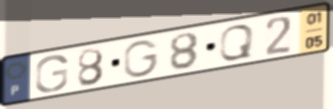2: (263, 15, 294, 58)
8: (167, 31, 202, 71), (75, 47, 105, 88)
G: (122, 39, 162, 80), (33, 53, 71, 94)
Q: (217, 23, 256, 62)
